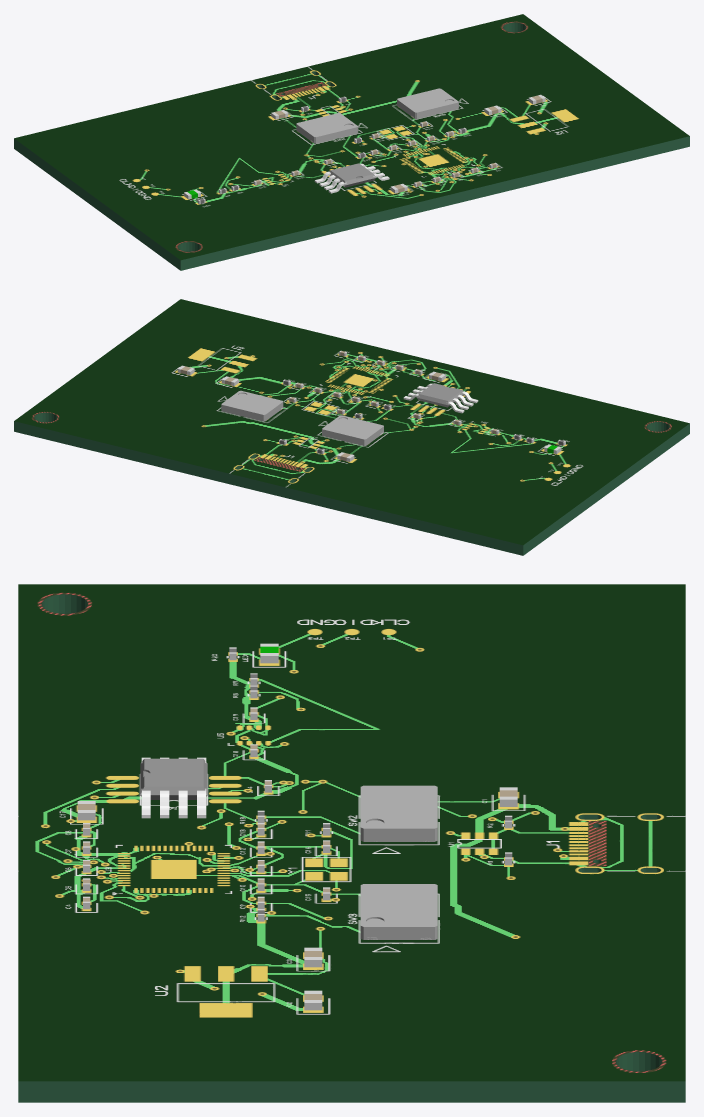
The picture shows the model from 3 angles, top to bottom: view 1: azimuth 30°, elevation 25°; view 2: azimuth 150°, elevation 25°; view 3: azimuth 270°, elevation 25°; orthographic projection. The views are drawn at different scales.
Parts seen in each view (by area): view 1: Box0, SW2, SW3, U4; view 2: Box0, SW3, SW2, U4; view 3: Box0, SW2, SW3, U4.
Boxes of the visible parts, x1=… form: Box0: x1=14, y1=14, x2=689, y2=270; SW2: x1=296, y1=113, x2=358, y2=143; SW3: x1=397, y1=88, x2=458, y2=119; U4: x1=314, y1=163, x2=389, y2=193; Box0: x1=14, y1=299, x2=689, y2=555; SW3: x1=221, y1=390, x2=283, y2=421; SW2: x1=322, y1=415, x2=383, y2=445; U4: x1=403, y1=383, x2=478, y2=413; Box0: x1=18, y1=584, x2=685, y2=1102; SW2: x1=360, y1=785, x2=437, y2=841; SW3: x1=360, y1=884, x2=437, y2=939; U4: x1=140, y1=757, x2=207, y2=818.
Size of the model in its own units: 80.9 by 2.88 by 45.9.
10 materials, 2 textured.
